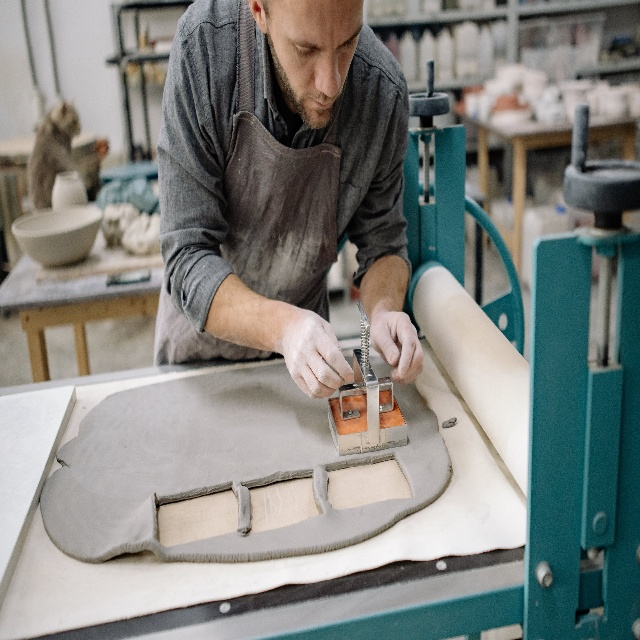Sin_guantes: (280, 306, 354, 400), (370, 310, 424, 386)
